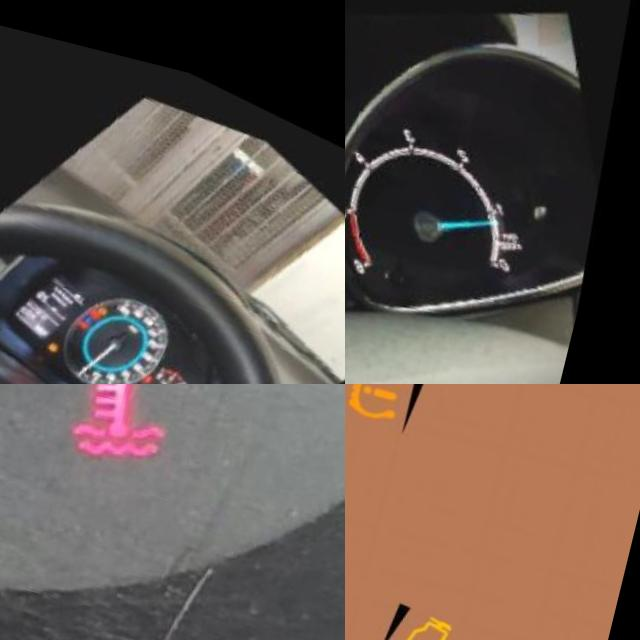Engine cooling system: (56, 384, 200, 475), (104, 295, 115, 303)
